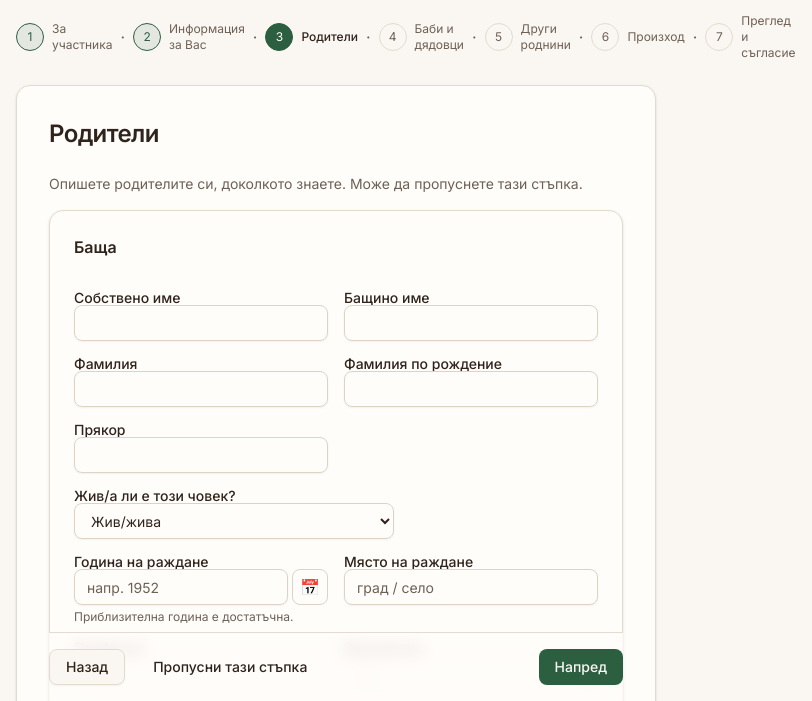
Test: questionnaire multi-step form › lets step 3 be skipped without filling anything
Expected: the heading "Родители" is shown, [49,119,159,148]
Click the button "Пропусни тази стъпка" at (230, 667), box [137,649,323,685]
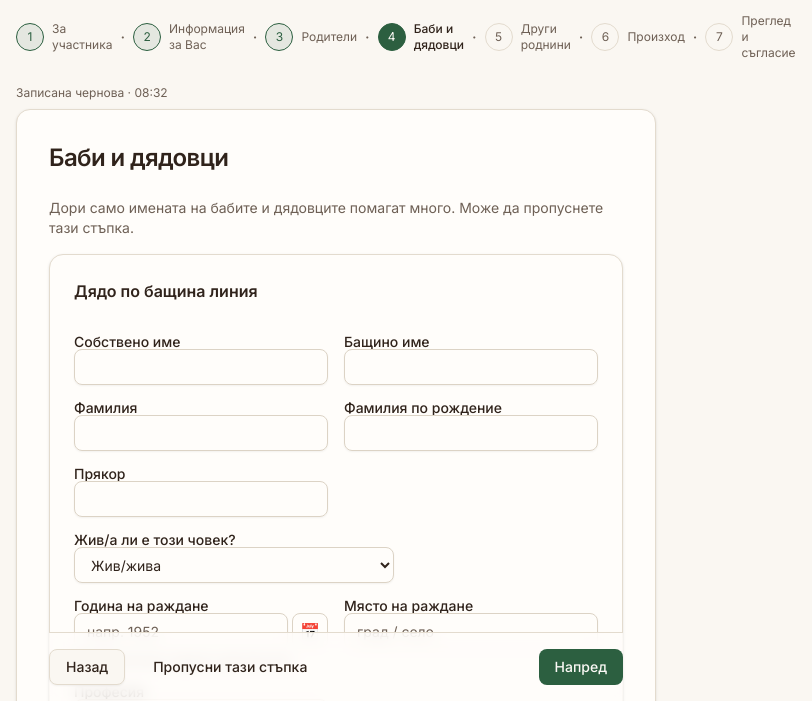
Now the heading "Баби и дядовци" is shown, box [49,143,228,172]
